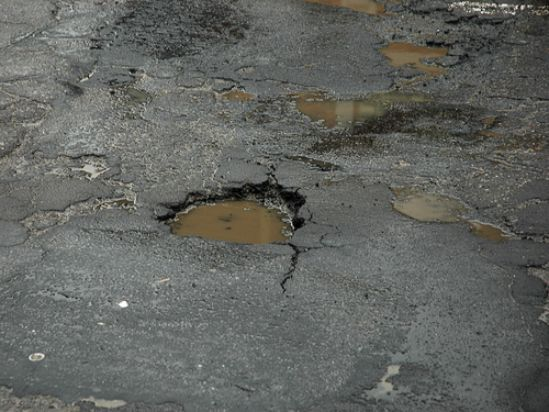pothole: (154, 179, 306, 251), (389, 181, 521, 245)
